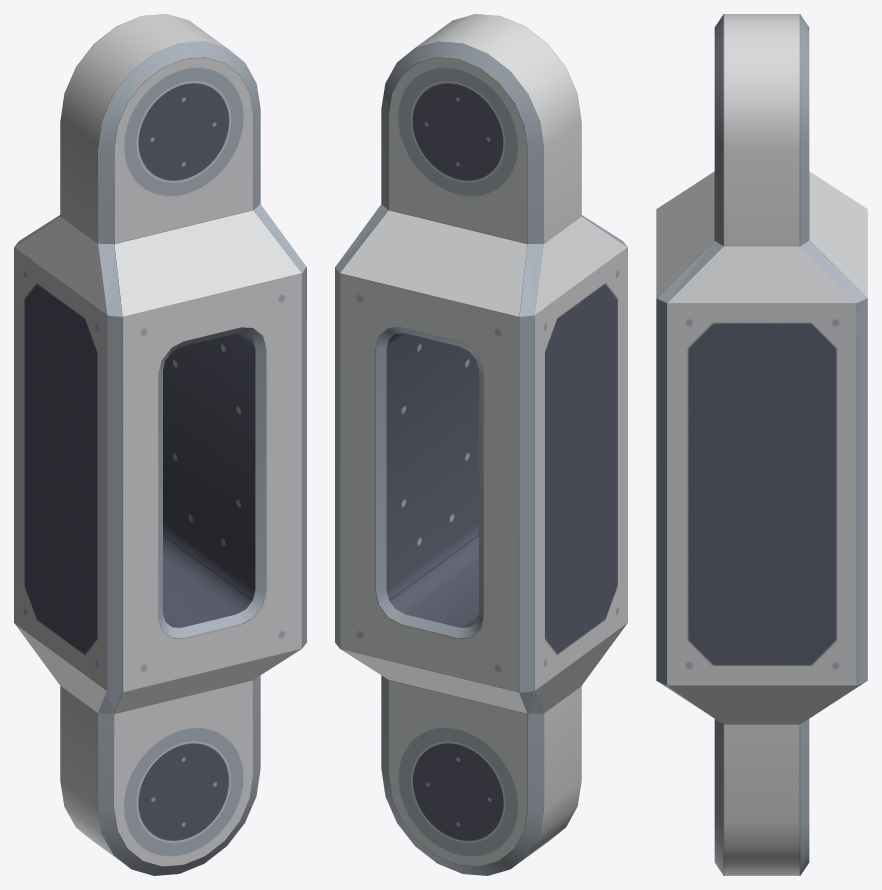
File: Articulated_Arm_03.FBX
3 renders of one model, left to right at view 1: azimuth 30°, elevation 25°; view 2: azimuth 150°, elevation 25°; view 3: azimuth 270°, elevation 25°, orthographic.
Visible parts, largest first — view 1: Articulated_Arm_03; view 2: Articulated_Arm_03; view 3: Articulated_Arm_03.
Part boxes in pixels (x1,y1,x2,y2): Articulated_Arm_03: (14,14,306,875); Articulated_Arm_03: (335,14,627,875); Articulated_Arm_03: (656,14,867,875).
Bounding box in the file's own units: 2.22 × 8.84 × 2.
3 materials, 3 textured.
